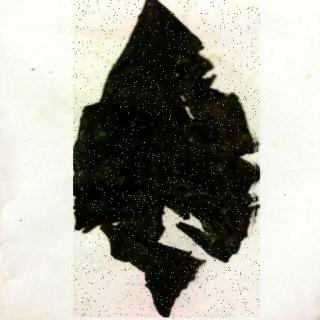Red Leaf Spot: (74, 1, 261, 319)
